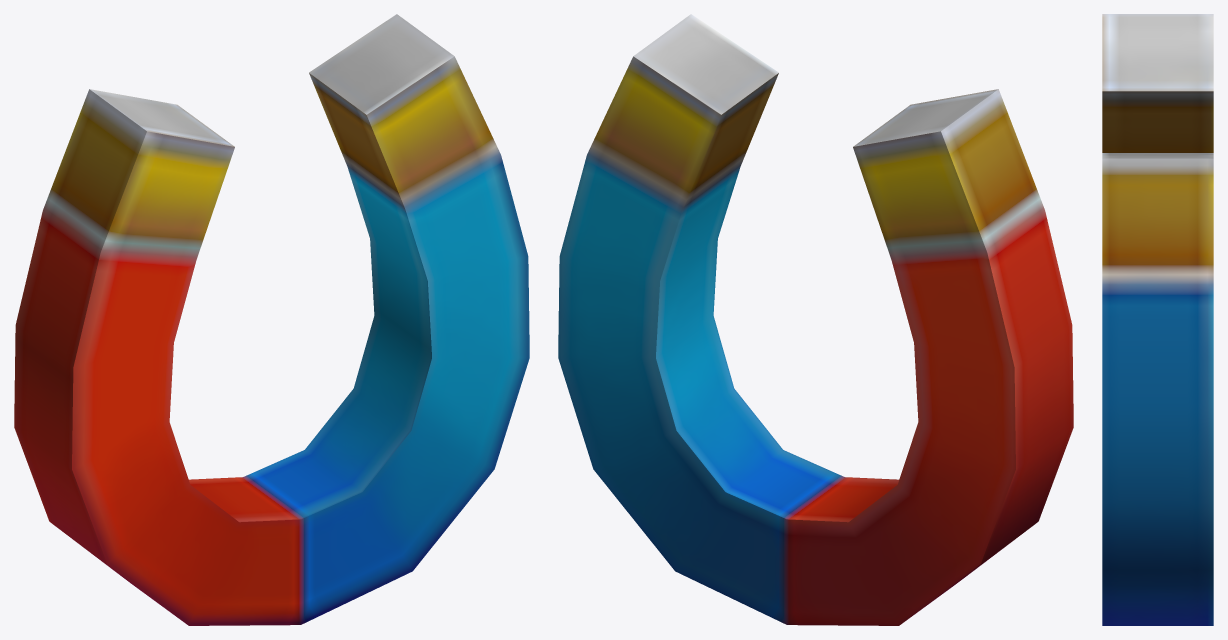
Rendered from citie.FBX.
3 renders of one model, left to right at view 1: azimuth 30°, elevation 25°; view 2: azimuth 150°, elevation 25°; view 3: azimuth 270°, elevation 25°, orthographic. The views are drawn at different scales.
Visible parts, largest first — view 1: citie; view 2: citie; view 3: citie.
Boxes of the visible parts, x1,y1,x2,y2 form: citie: [14, 14, 529, 625]; citie: [558, 14, 1073, 625]; citie: [1102, 14, 1213, 625].
Bounding box in the file's own units: 87.35 × 96.84 × 19.09.
